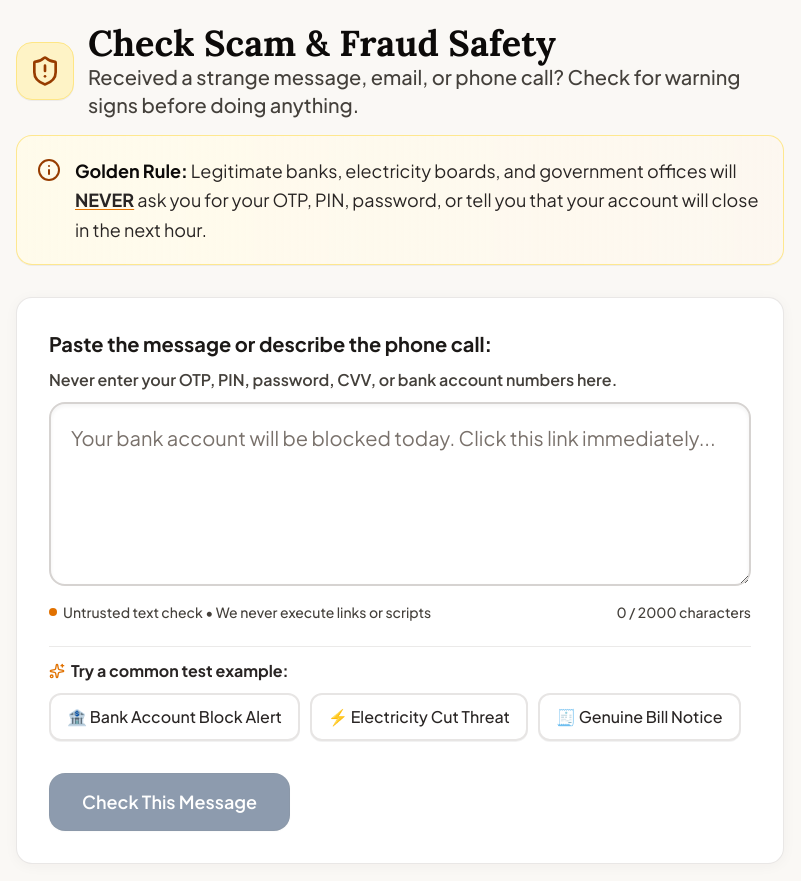
Scenario: SafetyFeature Component & Accessibility Tests › handles API errors gracefully and allows retry
Type "Suspicious message text" into the text box.
click(400, 494); type("Suspicious message text")  # box [49, 402, 751, 586]
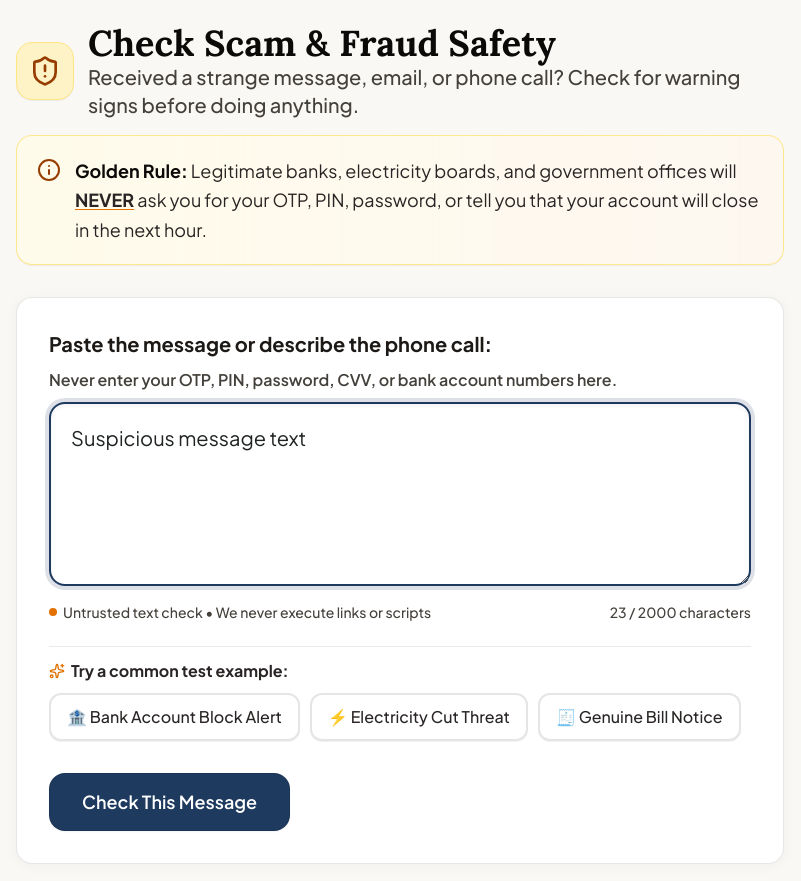
Click the button "Check This Message".
click(170, 802)  # box [49, 773, 290, 831]
(page scrolled)
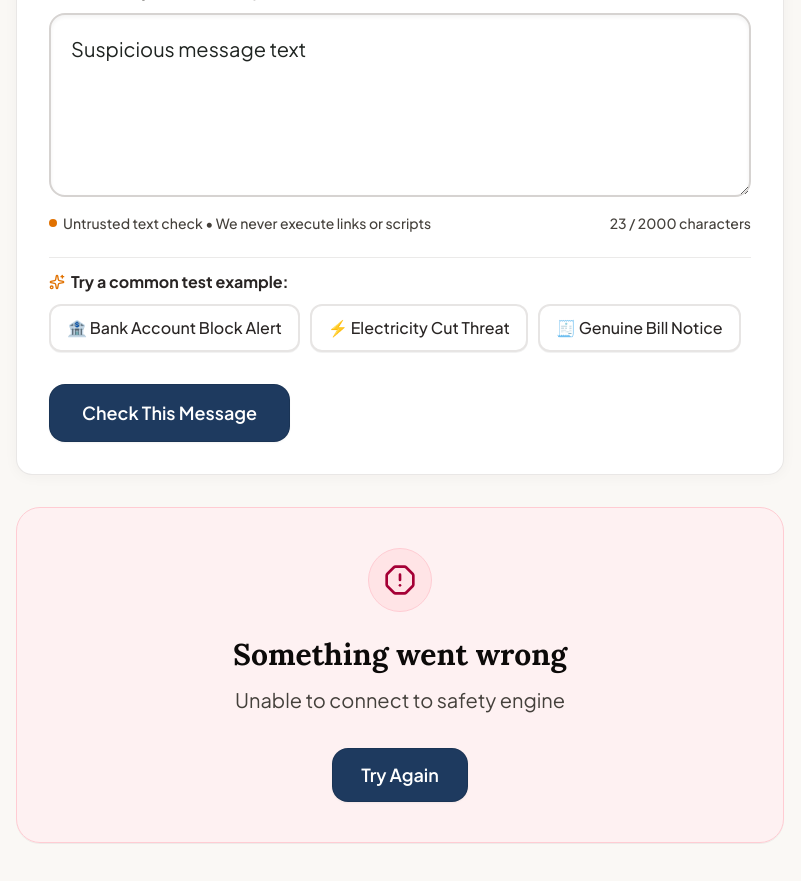
Result: the text "Unable to connect to safety engine" is shown at [235, 684, 565, 716]
Result: the button "Try Again" is shown at [332, 748, 468, 802]
